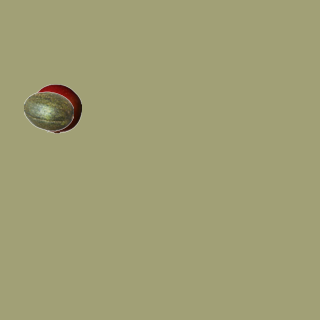Apple Braeburn: (31, 83, 81, 133)
Melon Piel de Sapo: (23, 86, 73, 136)
